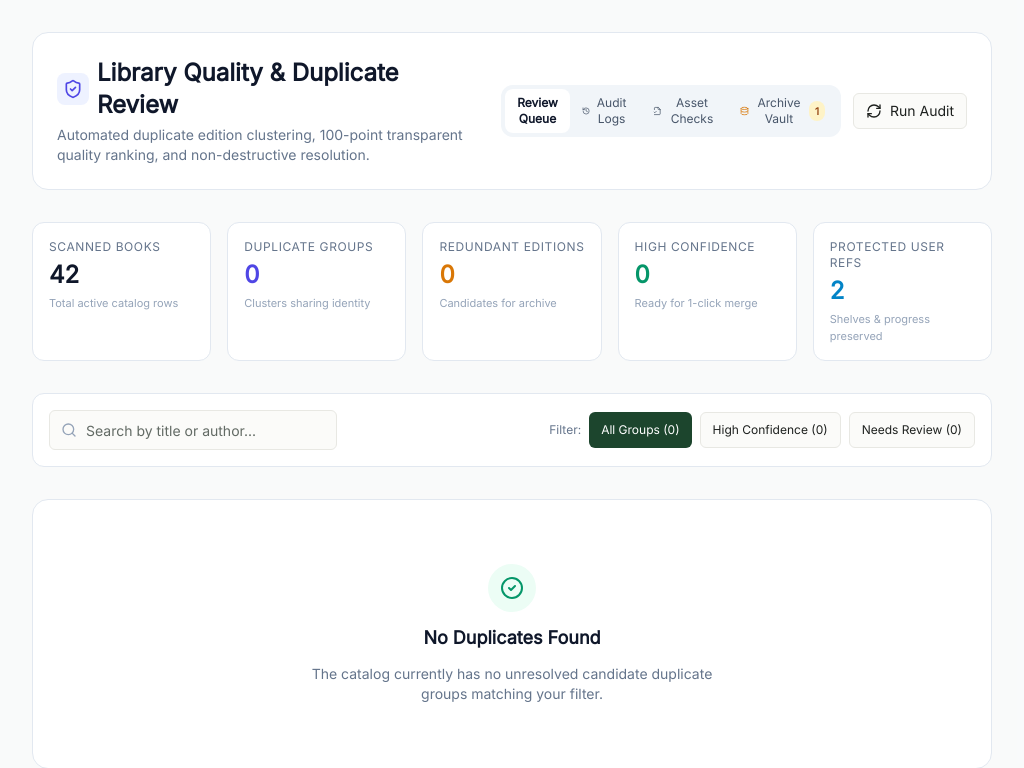
Scenario: AdminLibraryQuality › renders and interacts with Archive Vault tab including search, restore and manual archive modal
This screenshot has width=1024, height=768.
Later steps or results of the test are not shown.
Click the button "Archive Vault 1". click: (782, 111)
box: [728,89,837,133]
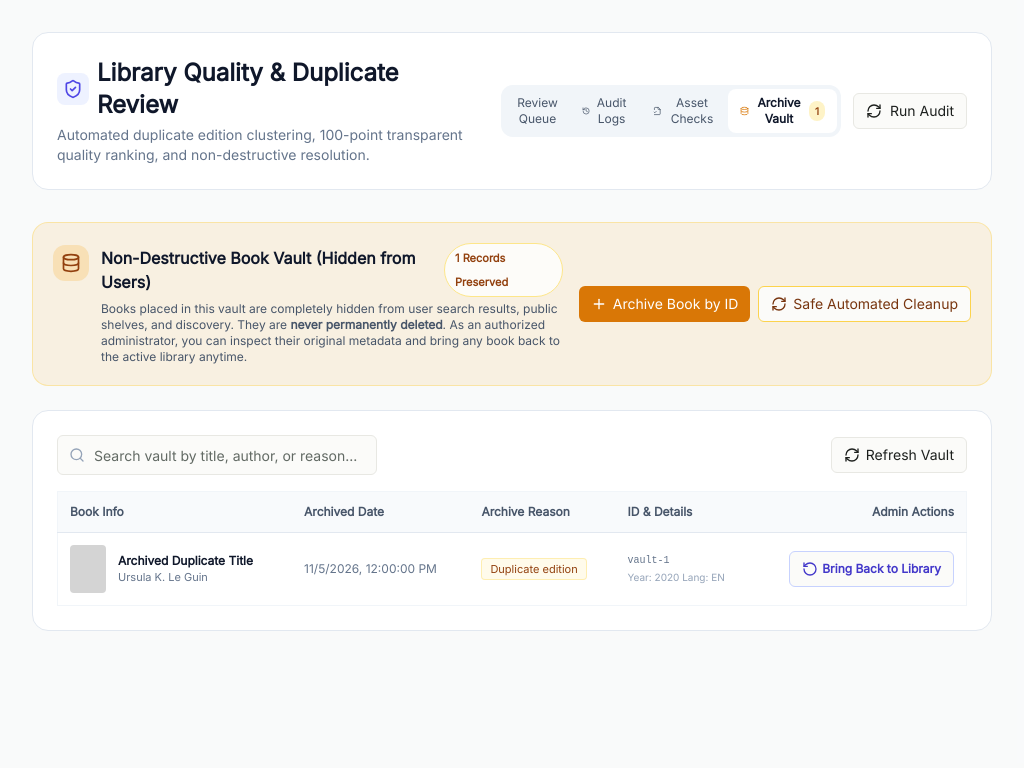
Expected: the heading "Non-Destructive Book Vault (Hidden from Users)" is shown, [101,248,416,292]
Expected: the text "Archived Duplicate Title" is shown, [118,553,253,569]
Type "Nonexistent Book" into the field with placeholder "Search vault by title, author, or reason...". click: (217, 455)
box: [57,435,377,475]
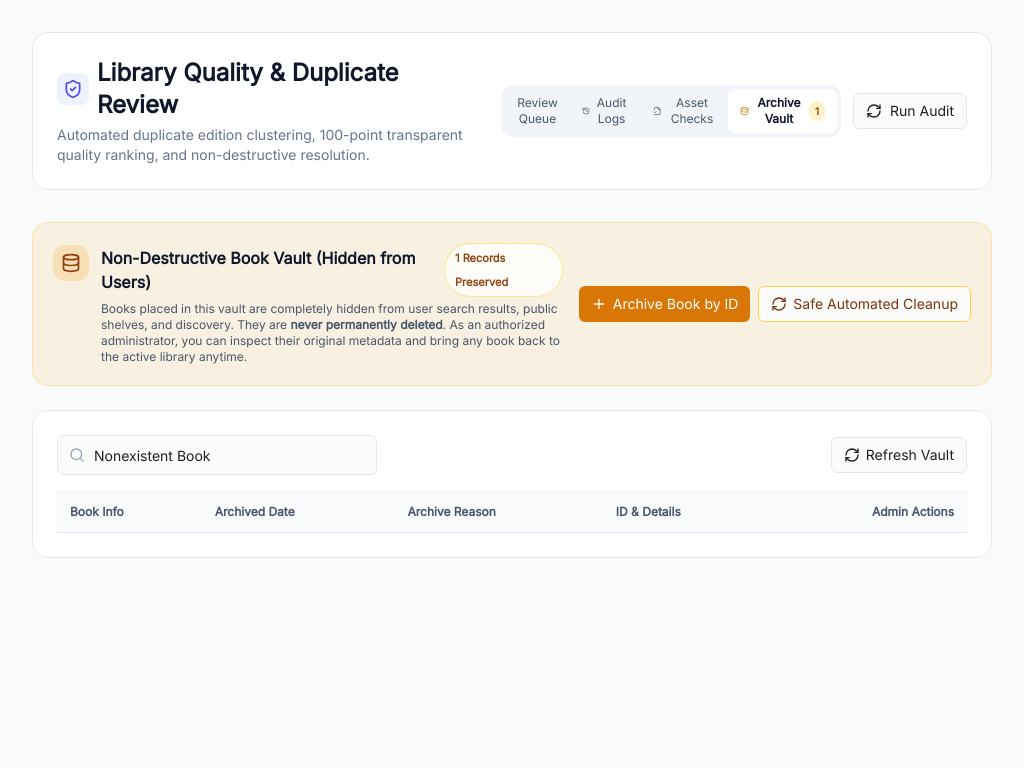
Expected: the text "Archived Duplicate Title" is gone
Replace the text in the field with placeholder "Search vault by title, author, or reason..." with "Archived Duplicate". click: (217, 455)
box: [57,435,377,475]
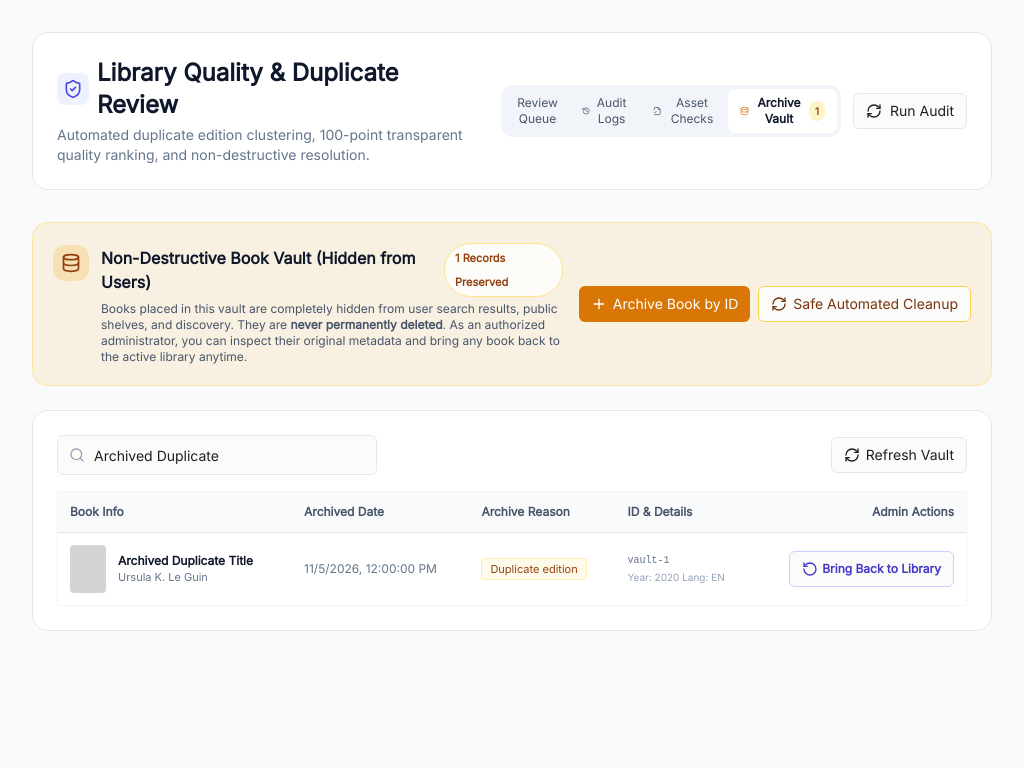
Expected: the text "Archived Duplicate Title" is shown, [118,553,253,569]
Click the button "Bring Back to Library". click: (872, 569)
box: [789,551,954,587]
Click the button "Archive Book by ID". click: (665, 304)
box: [579,286,750,322]
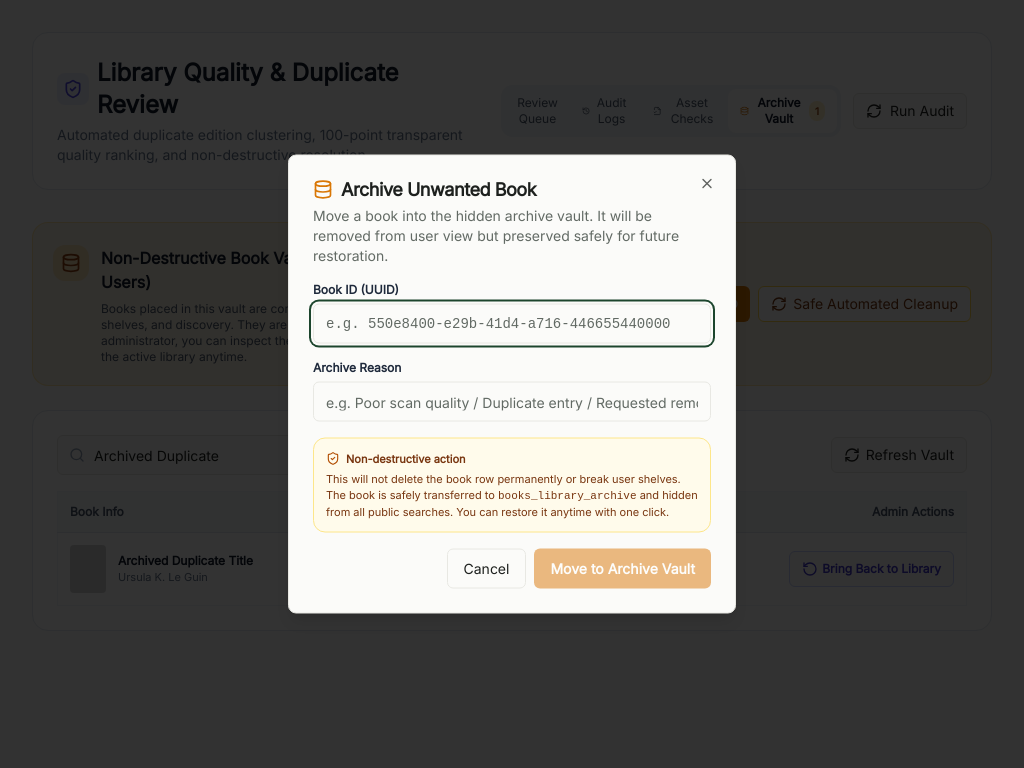
Expected: the heading "Archive Unwanted Book" is shown, [313,178,536,200]
